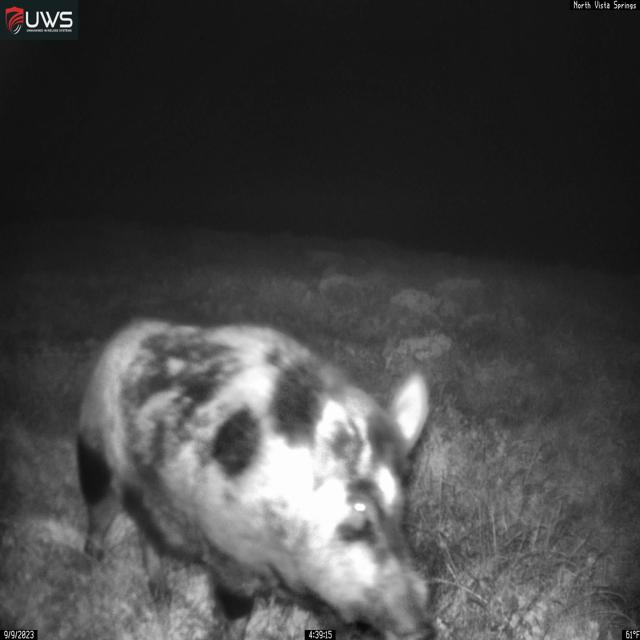pig: (74, 312, 438, 640)
